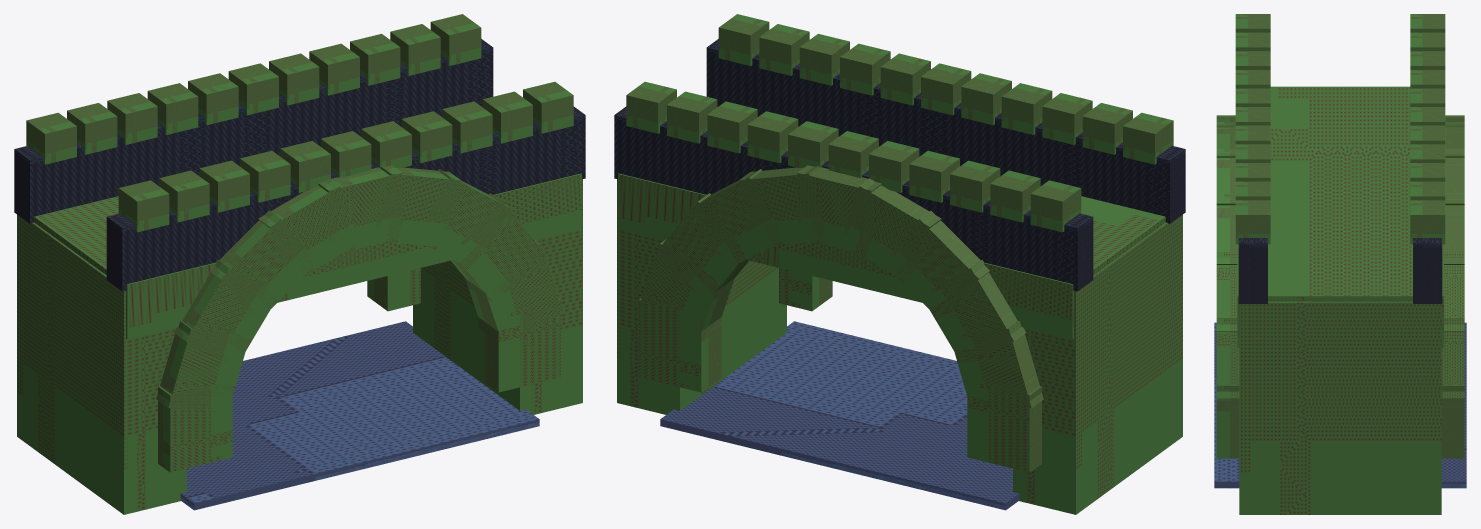
The model's file is batiment-pont.glb.
3 renders of one model, left to right at view 1: azimuth 30°, elevation 25°; view 2: azimuth 150°, elevation 25°; view 3: azimuth 270°, elevation 25°, orthographic. The views are drawn at different scales.
Parts seen in each view (by area): view 1: Water, Pier-2.35, Parapet-0.95, Parapet0.95, Deck, Pier2.35, FrontArch0, FrontArch3, FrontArch10, FrontArch2, FrontArch1, FrontArch8 (+28 smaller); view 2: Water, Pier-2.35, Parapet0.95, Parapet-0.95, Deck, Pier2.35, BackArch10, BackArch0, BackArch2, BackArch4, BackArch5, BackArch7 (+28 smaller); view 3: Pier2.35, Deck, Water, Parapet-0.95, Parapet0.95, FrontArch10, BackArch10, FrontArch9, BackArch9, FrontArch8, BackArch8, ParapetBlock-0.95-5 (+27 smaller).
Part boxes in pixels (left/top/right/bottom): Water: left=180, top=321, right=539, bottom=510; Pier-2.35: left=17, top=214, right=186, bottom=514; Parapet-0.95: left=14, top=39, right=493, bottom=223; Parapet0.95: left=106, top=106, right=585, bottom=291; Deck: left=34, top=173, right=581, bottom=339; Pier2.35: left=413, top=179, right=582, bottom=414; FrontArch0: left=158, top=380, right=232, bottom=472; FrontArch3: left=210, top=210, right=316, bottom=321; FrontArch10: left=478, top=298, right=560, bottom=392; FrontArch2: left=173, top=259, right=279, bottom=366; FrontArch1: left=156, top=321, right=250, bottom=413; FrontArch8: left=451, top=193, right=545, bottom=303; Water: left=660, top=321, right=1019, bottom=510; Pier-2.35: left=1013, top=214, right=1182, bottom=514; Parapet0.95: left=706, top=39, right=1185, bottom=223; Parapet-0.95: left=614, top=106, right=1093, bottom=291; Deck: left=618, top=173, right=1165, bottom=339; Pier2.35: left=617, top=179, right=786, bottom=414; BackArch10: left=639, top=298, right=721, bottom=392; BackArch0: left=967, top=380, right=1041, bottom=472; BackArch2: left=920, top=259, right=1026, bottom=364; BackArch4: left=840, top=178, right=941, bottom=283; BackArch5: left=797, top=165, right=881, bottom=254; BackArch7: left=689, top=169, right=785, bottom=269; Pier2.35: left=1239, top=301, right=1441, bottom=514; Deck: left=1237, top=86, right=1443, bottom=347; Water: left=1214, top=322, right=1466, bottom=488; Parapet-0.95: left=1413, top=238, right=1442, bottom=303; Parapet0.95: left=1238, top=238, right=1267, bottom=303; FrontArch10: left=1216, top=385, right=1239, bottom=458; BackArch10: left=1441, top=385, right=1464, bottom=458; FrontArch9: left=1216, top=318, right=1239, bottom=398; BackArch9: left=1441, top=318, right=1464, bottom=398; FrontArch8: left=1216, top=252, right=1238, bottom=331; BackArch8: left=1442, top=252, right=1464, bottom=331; ParapetBlock-0.95-5: left=1410, top=200, right=1445, bottom=244.
Size of the model in its own units: 6.21 by 4 by 3.11.
Materials: 2 (2 with a texture image).
